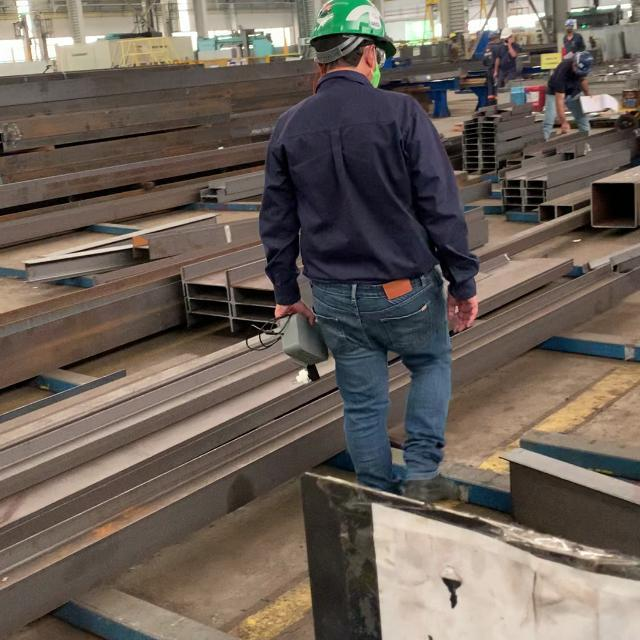helmet: (310, 1, 400, 58)
mask: (372, 64, 381, 83)
person: (258, 2, 480, 500)
safety-shoe: (399, 470, 465, 502)
